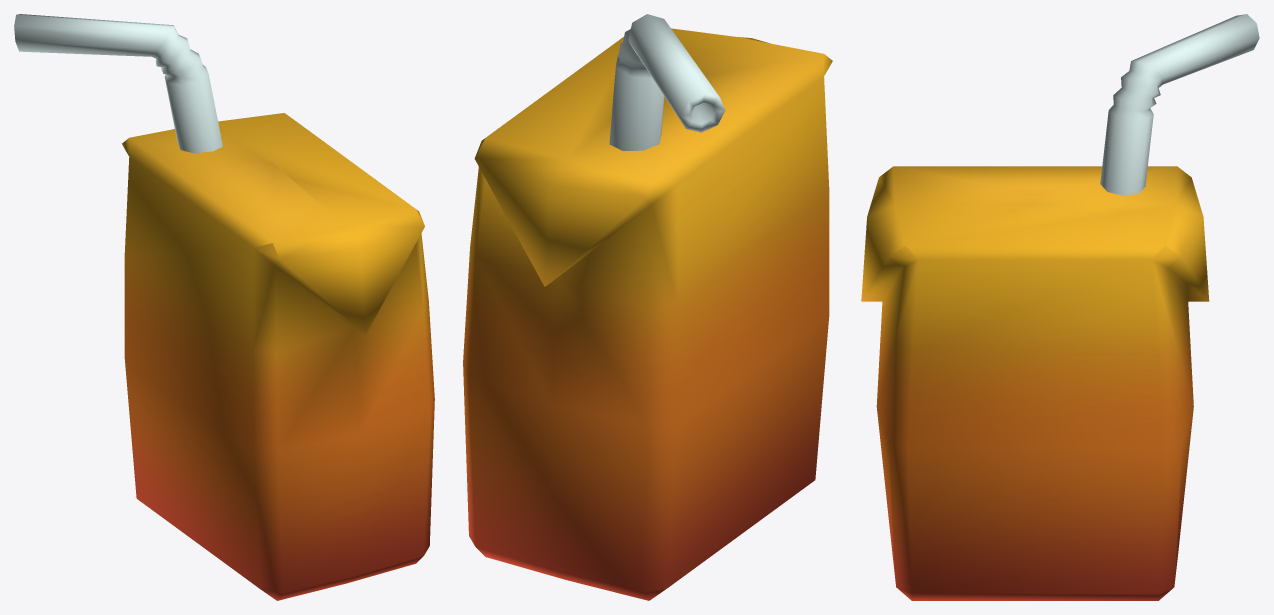
File: Juice Pack.fbx
The picture shows the model from 3 angles, left to right: view 1: azimuth 30°, elevation 25°; view 2: azimuth 150°, elevation 25°; view 3: azimuth 270°, elevation 25°; orthographic projection. The views are drawn at different scales.
Visible parts, largest first — view 1: Juice Pack; view 2: Juice Pack; view 3: Juice Pack.
Part boxes in pixels (<box>): Juice Pack: <box>14,14,434,600</box>; Juice Pack: <box>463,14,832,600</box>; Juice Pack: <box>861,14,1259,600</box>.
Bounding box in the file's own units: 14.46 × 26.2 × 19.64.
